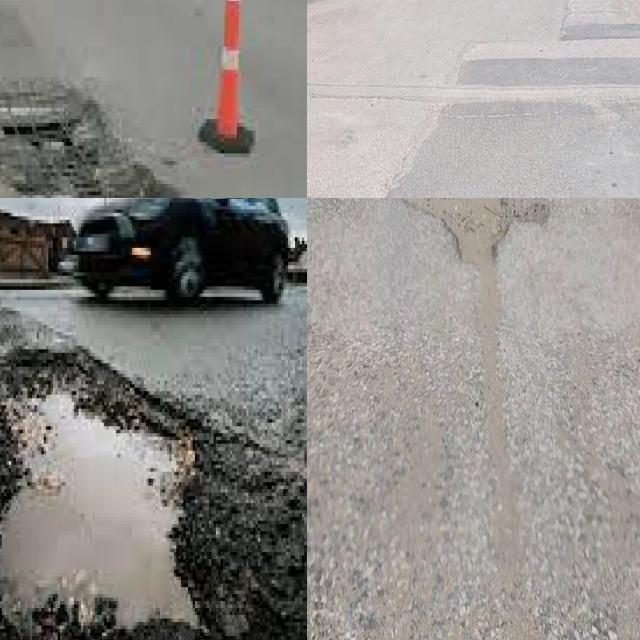Pothole: (0, 382, 197, 625), (0, 77, 182, 198), (440, 198, 518, 267), (399, 198, 449, 218)
